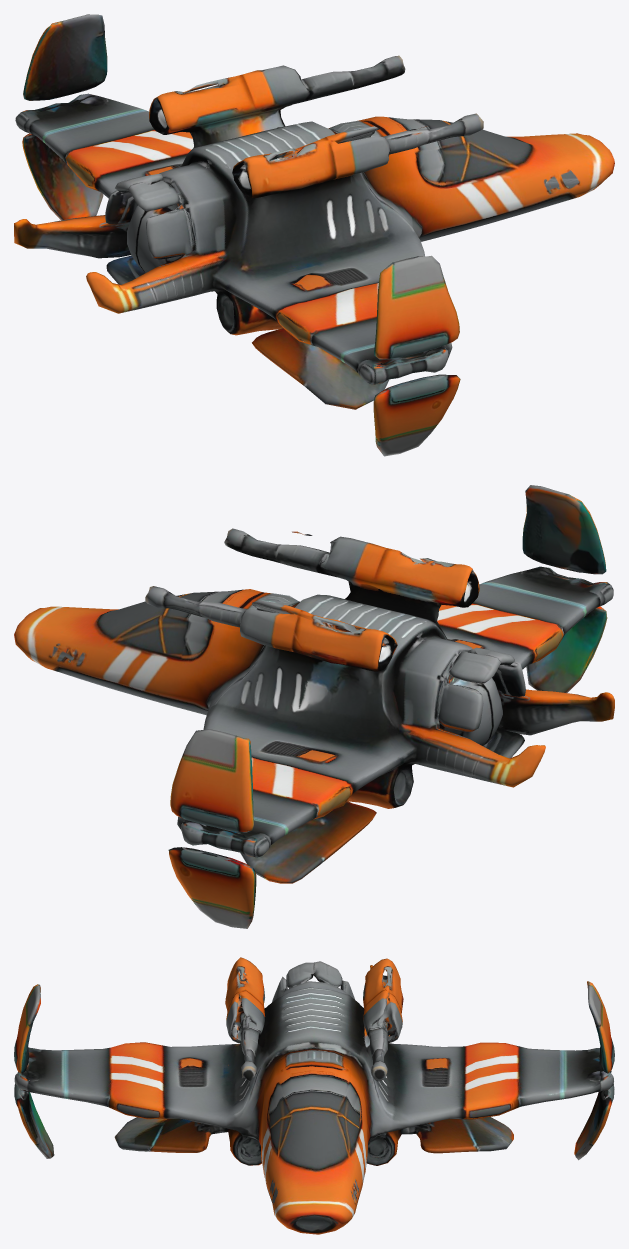
Rendered from ship.fbx.
3 views of the same model, one above another, from view 1: azimuth 30°, elevation 25°; view 2: azimuth 150°, elevation 25°; view 3: azimuth 270°, elevation 25° (orthographic). The views are drawn at different scales.
Parts seen in each view (by area): view 1: tripo_node_4db25145; view 2: tripo_node_4db25145; view 3: tripo_node_4db25145.
Part boxes in pixels (left/top/right/bottom): tripo_node_4db25145: left=14, top=14, right=614, bottom=456; tripo_node_4db25145: left=14, top=485, right=614, bottom=928; tripo_node_4db25145: left=14, top=957, right=614, bottom=1234.
Bounding box in the file's own units: 0.8828 × 0.338 × 0.9973.
1 material, 1 textured.
